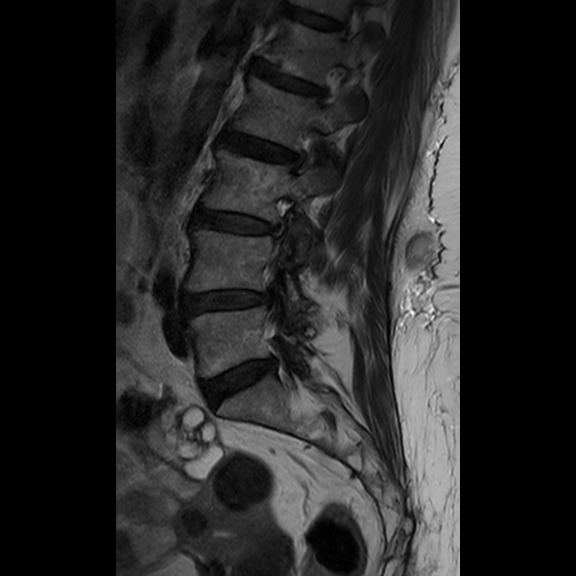LFS0: (306, 52, 356, 122)
